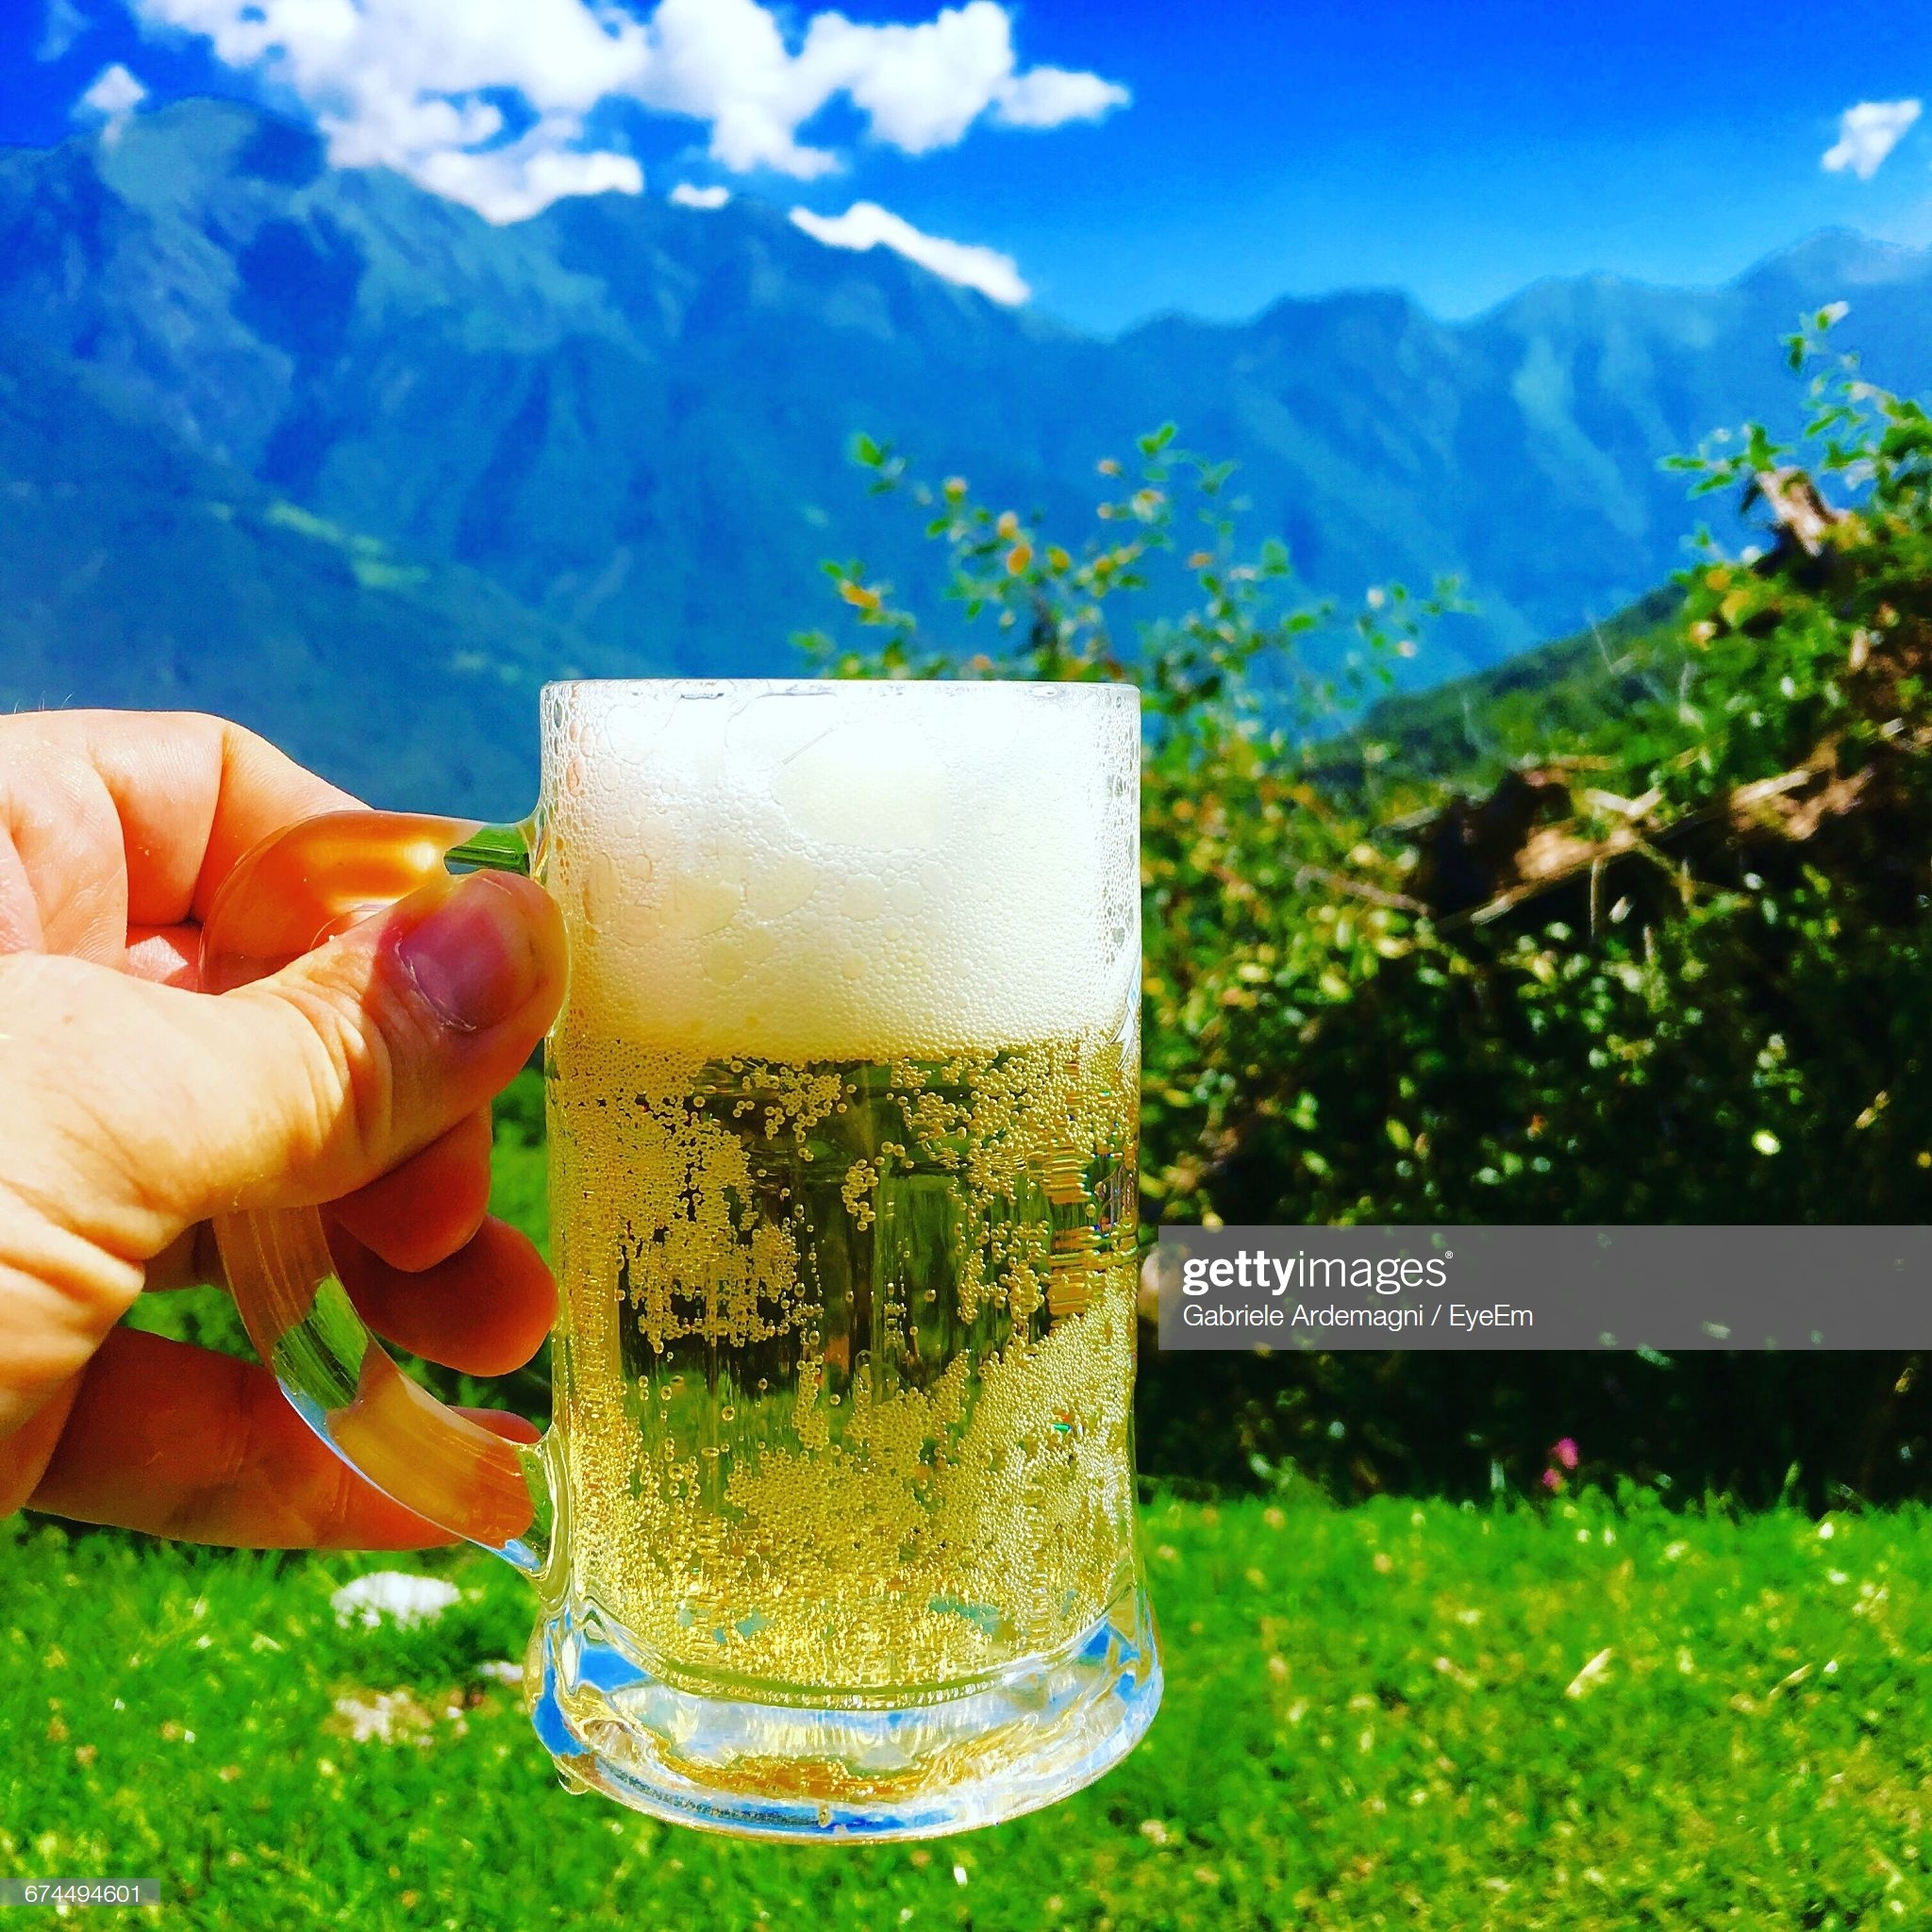glassBeer: (448, 671, 1134, 1813)
